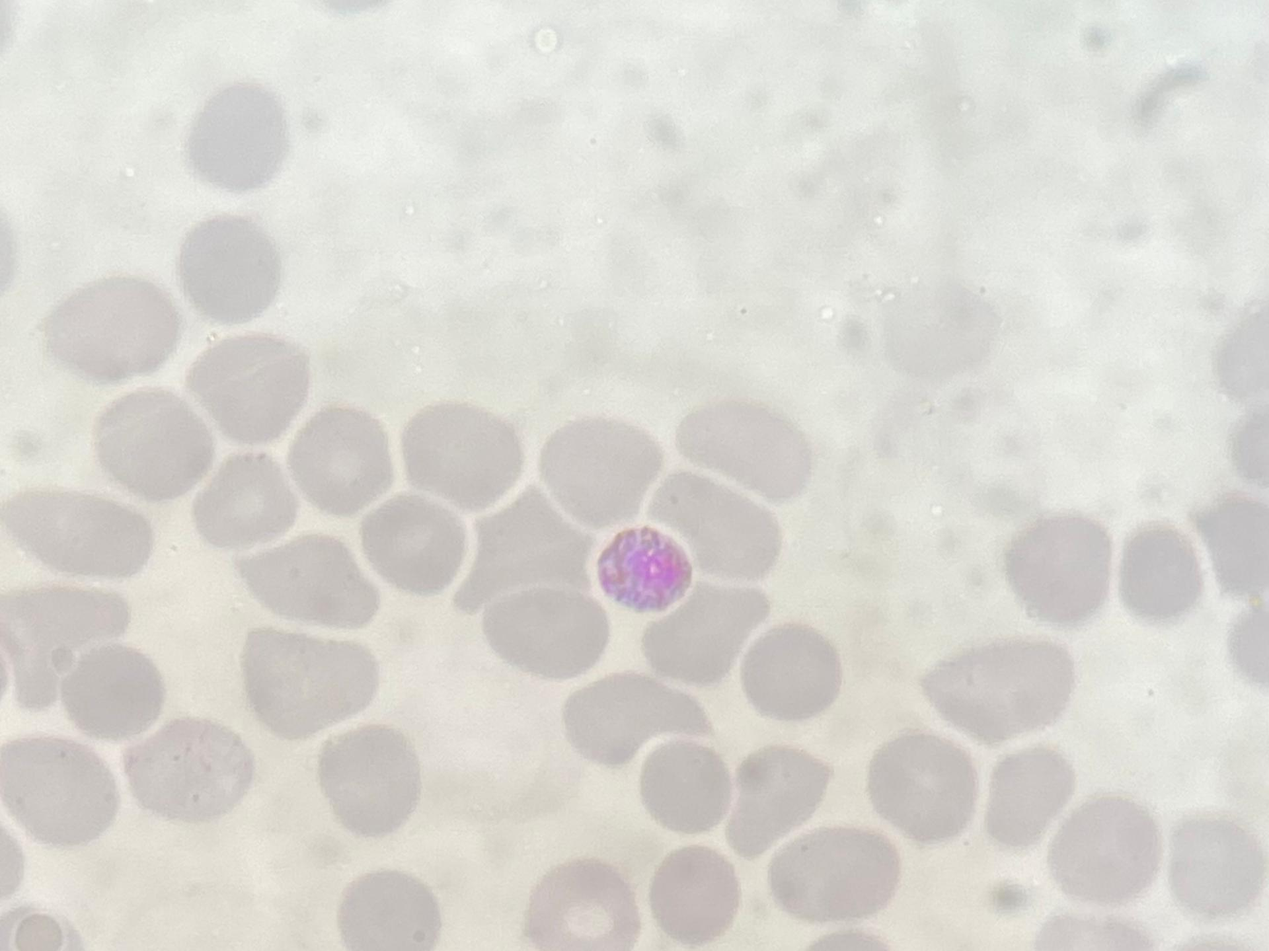Infected: (598, 524, 696, 611)
Uninfected: (458, 487, 596, 617), (233, 529, 385, 636), (919, 638, 1073, 743), (240, 625, 381, 738), (646, 467, 785, 581), (38, 274, 182, 383), (0, 484, 156, 582), (672, 395, 814, 502), (5, 586, 128, 709), (560, 668, 712, 767), (89, 385, 217, 502), (192, 325, 307, 450), (397, 399, 525, 511), (124, 718, 257, 825), (536, 414, 664, 523), (0, 732, 120, 848), (767, 823, 902, 925), (1044, 791, 1162, 905), (642, 584, 770, 689), (863, 728, 980, 842), (718, 742, 835, 853), (1001, 513, 1116, 625), (477, 584, 609, 680), (315, 724, 422, 836), (291, 399, 394, 515), (191, 451, 305, 555), (358, 494, 471, 597), (181, 212, 281, 326), (181, 84, 291, 187), (522, 858, 640, 950), (56, 641, 165, 740), (737, 623, 843, 720), (979, 743, 1076, 849), (633, 736, 735, 836), (644, 845, 743, 944), (1163, 814, 1258, 915), (1114, 520, 1204, 623), (1188, 494, 1269, 603), (336, 867, 444, 948)
